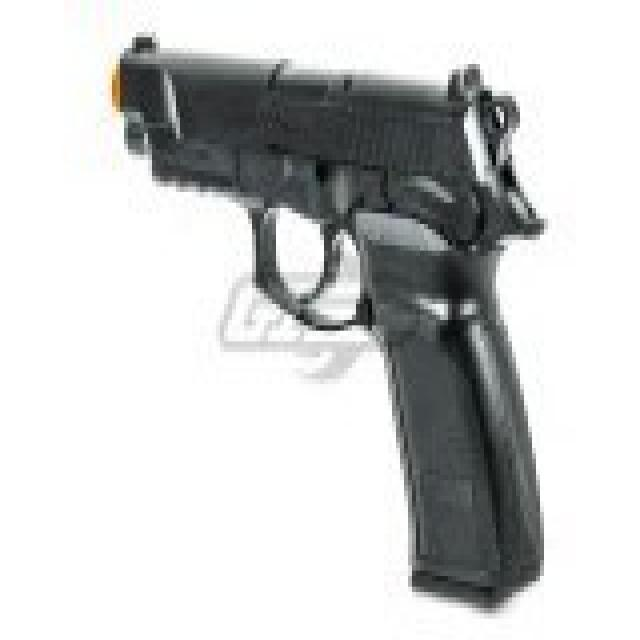Gun: (89, 17, 579, 620)
